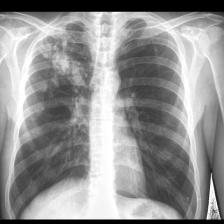tuberculosis: (5, 11, 209, 219)
